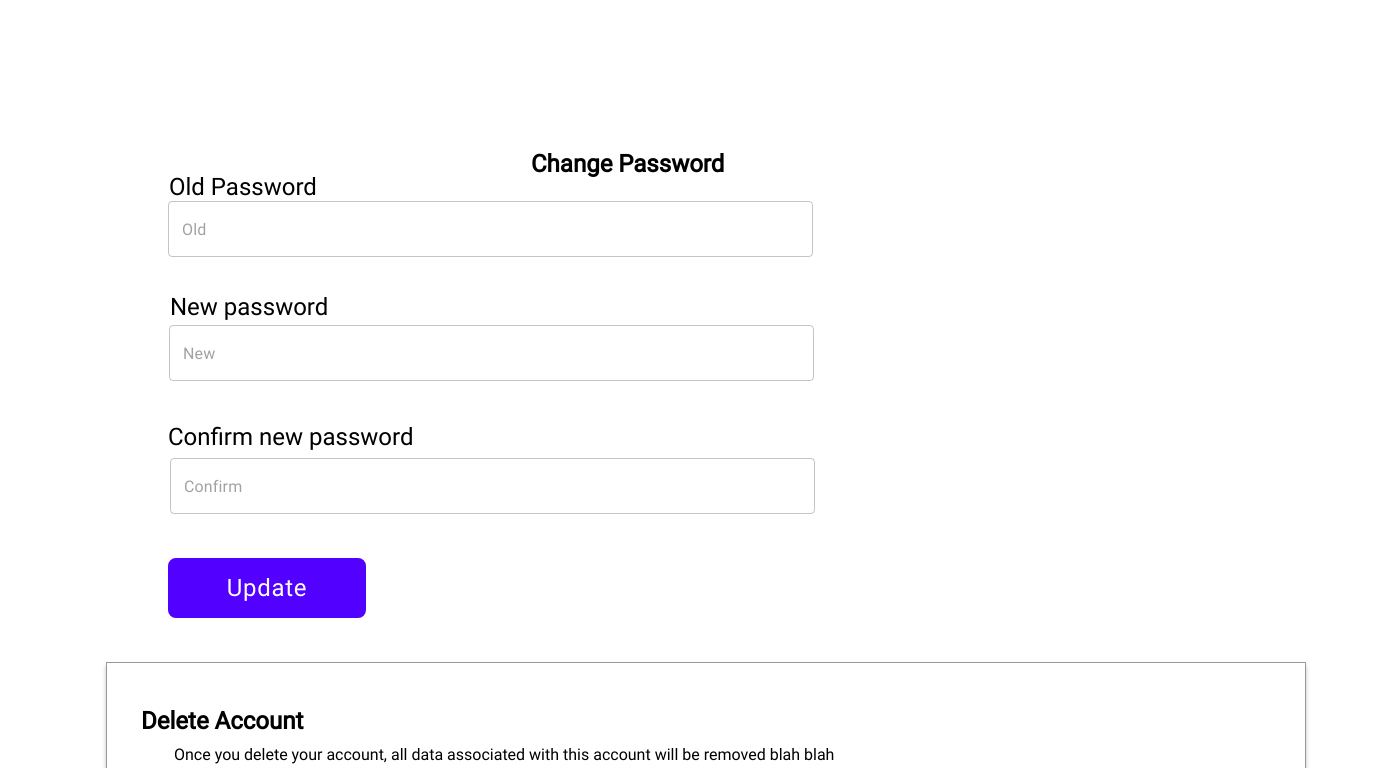
Settings Page UI Test › update password
Step 1. Type "claire" into the field with placeholder "Old" → (490,229), box x1=168 y1=201 x2=813 y2=257
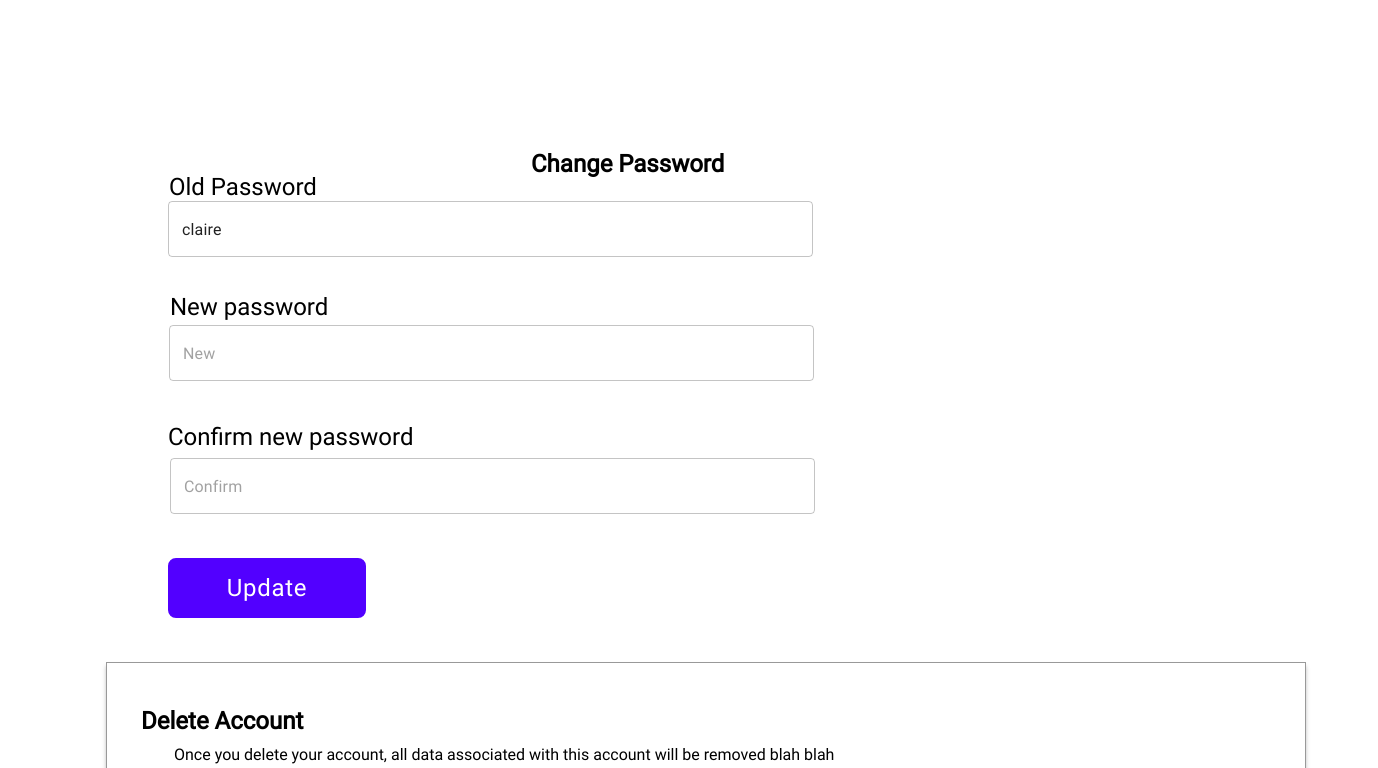
Step 2. Type "james" into the field with placeholder "New" → (492,353), box x1=169 y1=325 x2=814 y2=381
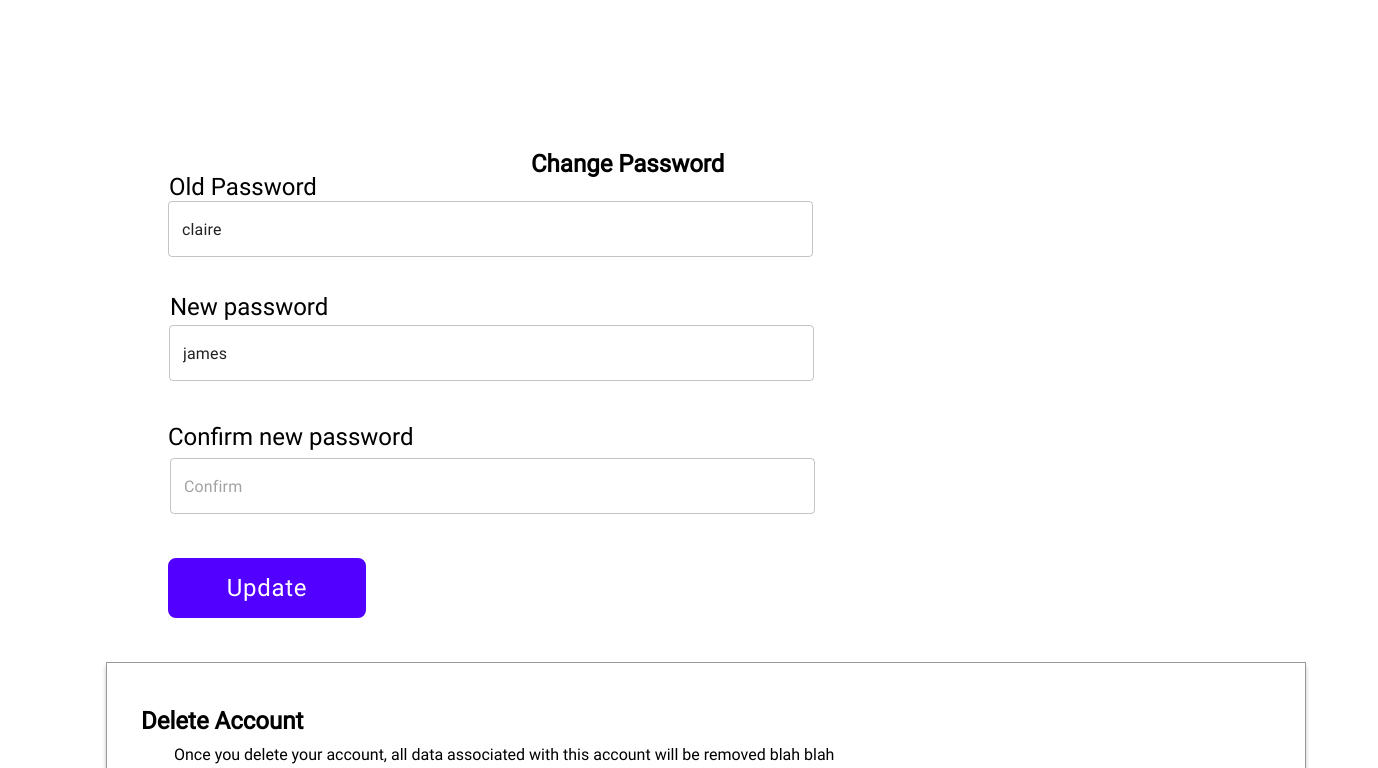
Step 3. Type "james" into the field with placeholder "Confirm" → (492,486), box x1=170 y1=458 x2=815 y2=514
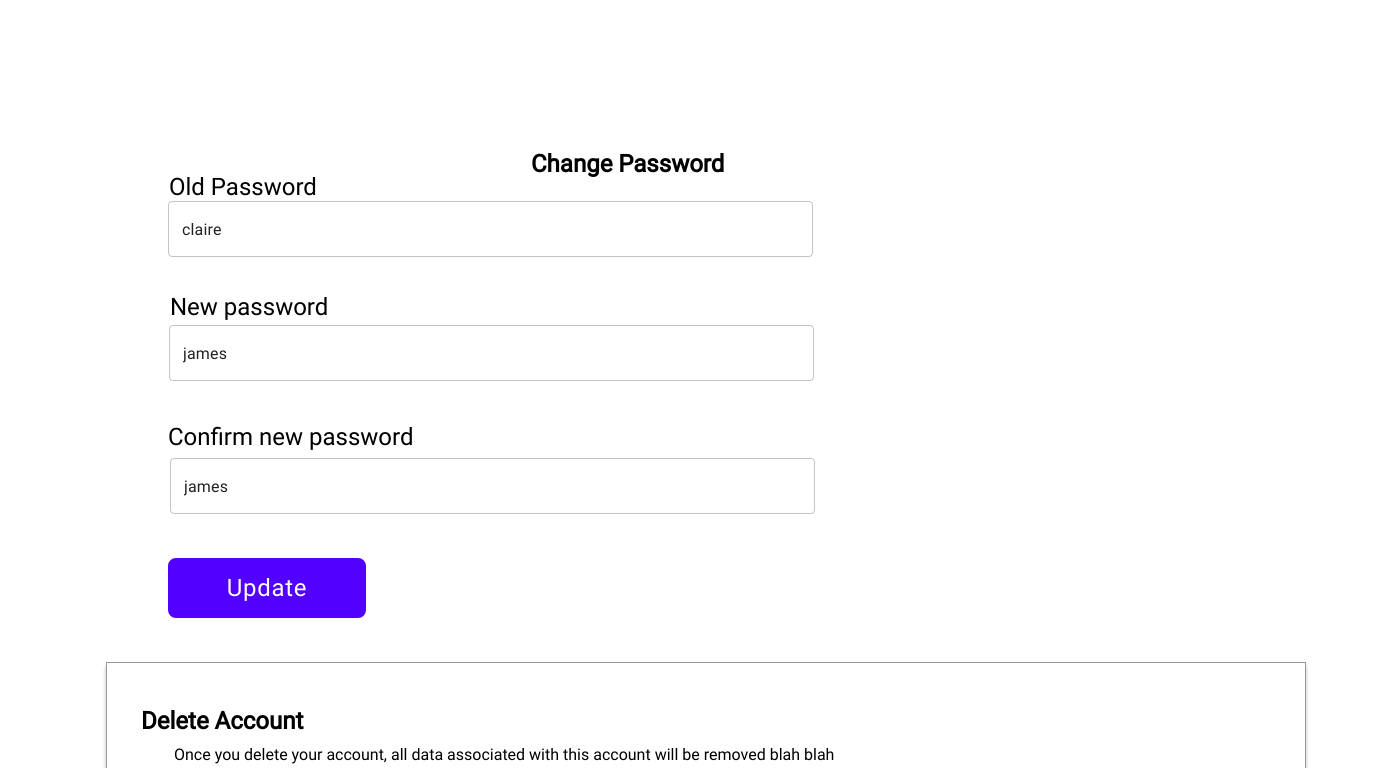
Step 4. Click the button "Update" → (267,588), box x1=168 y1=558 x2=366 y2=618
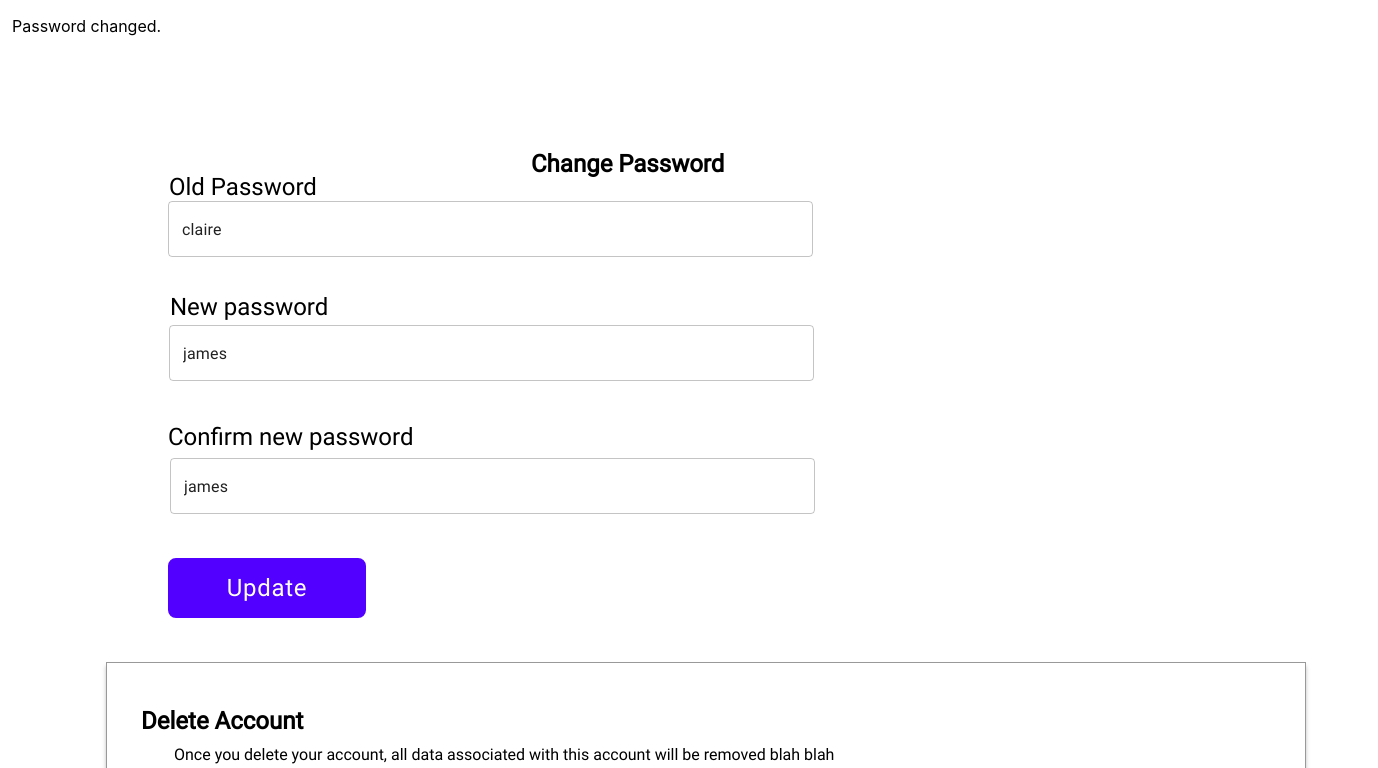
Result: the text "Password changed." is shown at x1=12 y1=16 x2=161 y2=36
